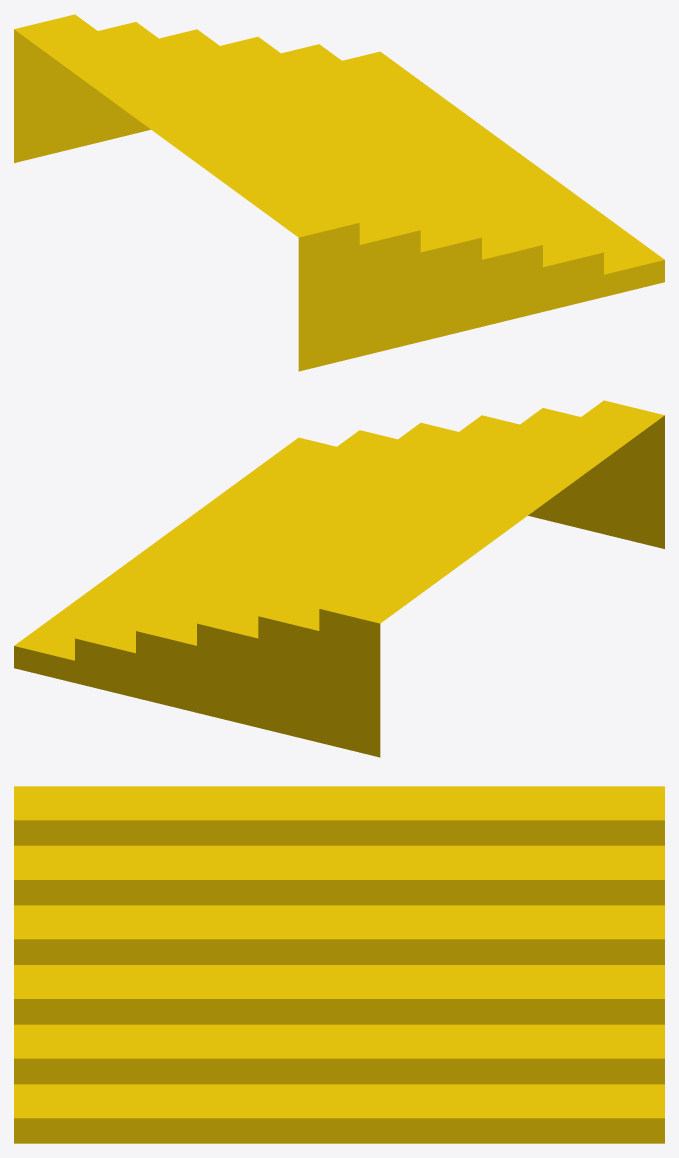
The model's file is Escalera1.fbx.
3 renders of one model, top to bottom at view 1: azimuth 30°, elevation 25°; view 2: azimuth 150°, elevation 25°; view 3: azimuth 270°, elevation 25°, orthographic. The views are drawn at different scales.
Visible parts, largest first — view 1: Escaleras; view 2: Escaleras; view 3: Escaleras.
Part boxes in pixels (left/top/right/bottom): Escaleras: left=14, top=14, right=664, bottom=371; Escaleras: left=14, top=400, right=664, bottom=757; Escaleras: left=14, top=786, right=664, bottom=1143.
Size of the model in its own units: 262 by 91.4 by 352.
